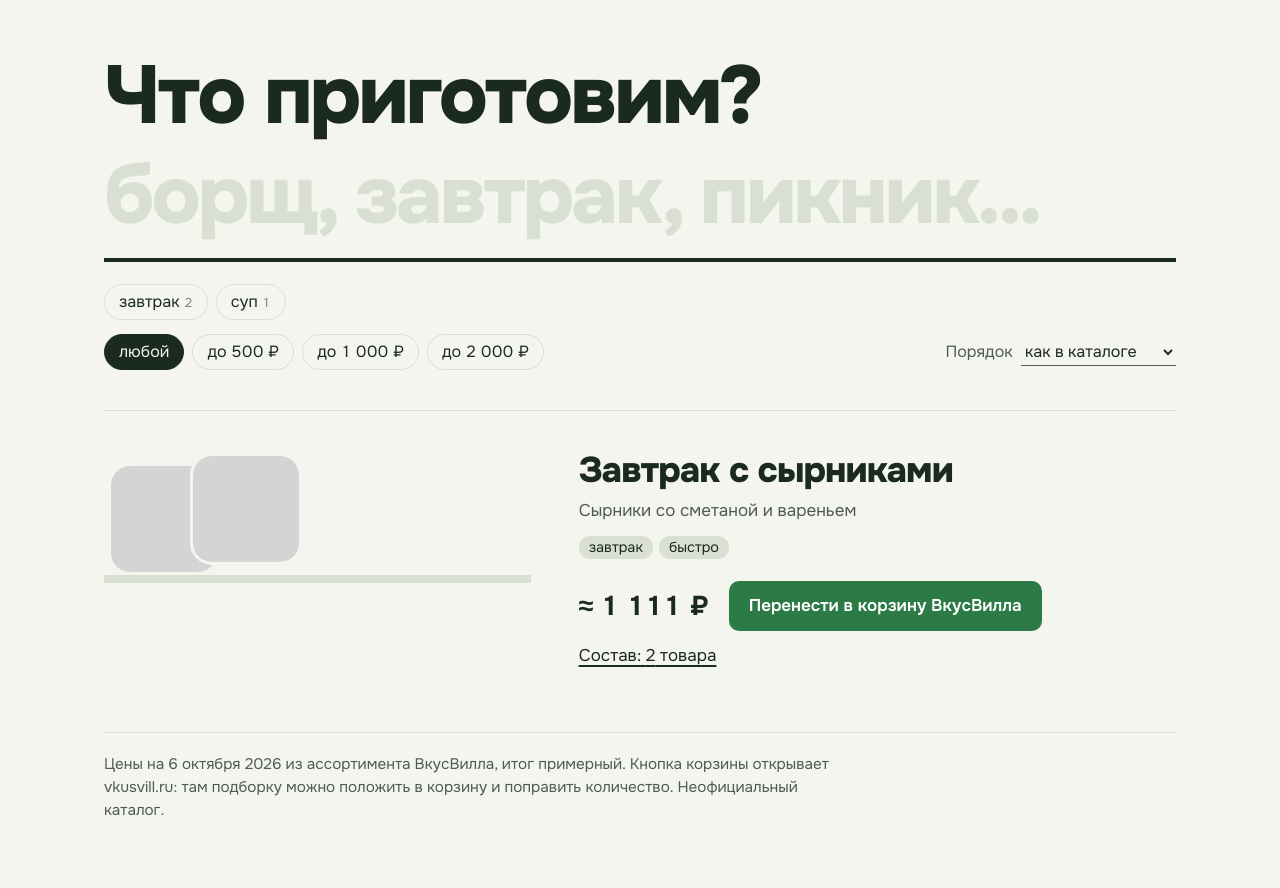
Test case: App › opens the receipt with quantities and product links
What coordinates should you click on to do the following:
click the button "Состав: 2 товара"
I would click on:
 (648, 656)
Its box is x1=579 y1=643 x2=716 y2=668.
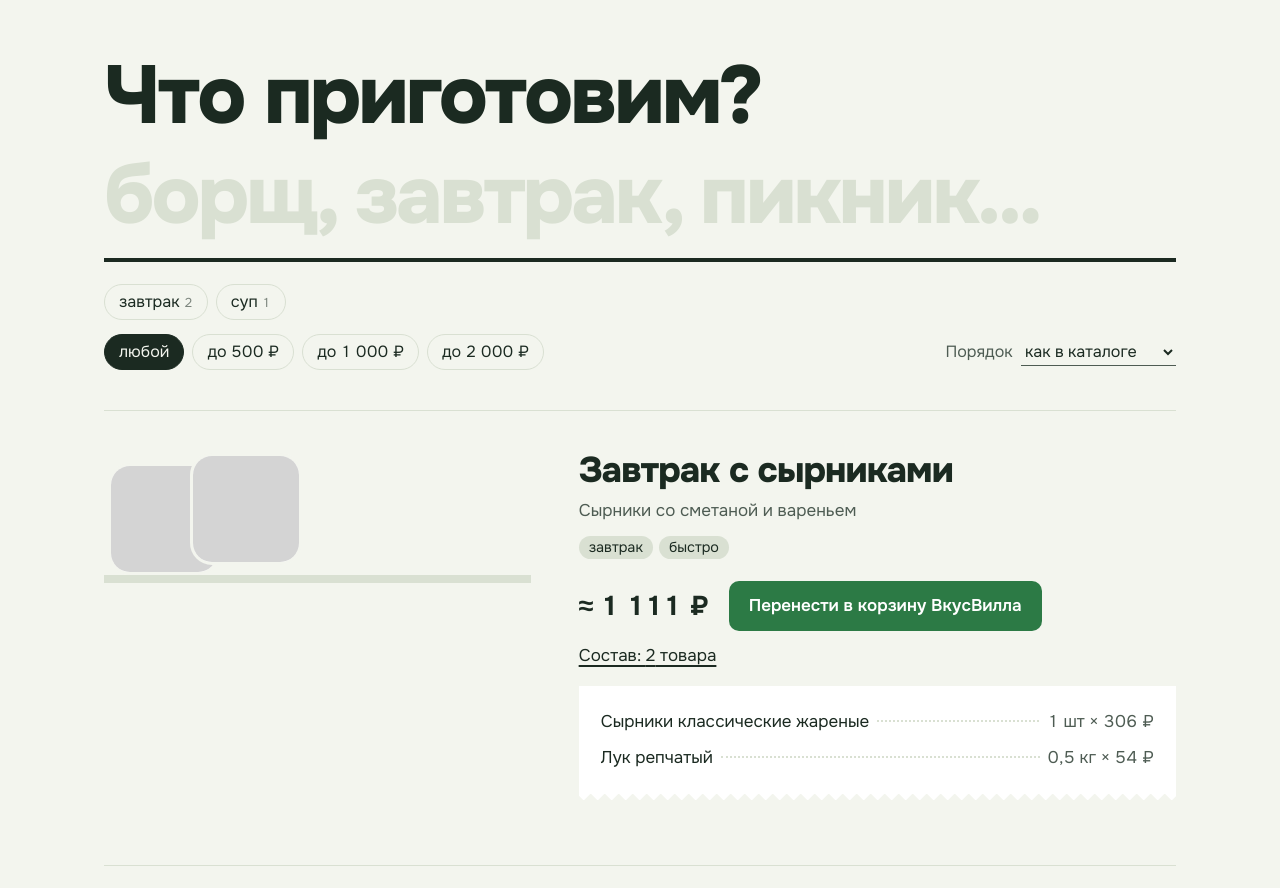
Expected: the text "0,5 кг × 54 ₽" is shown, x1=1048 y1=745 x2=1154 y2=770
